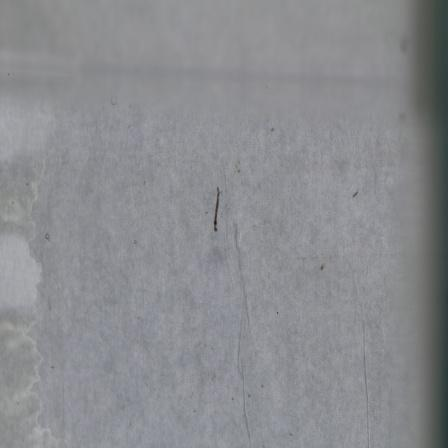Jentik-Nyamuk: (207, 182, 223, 238)
